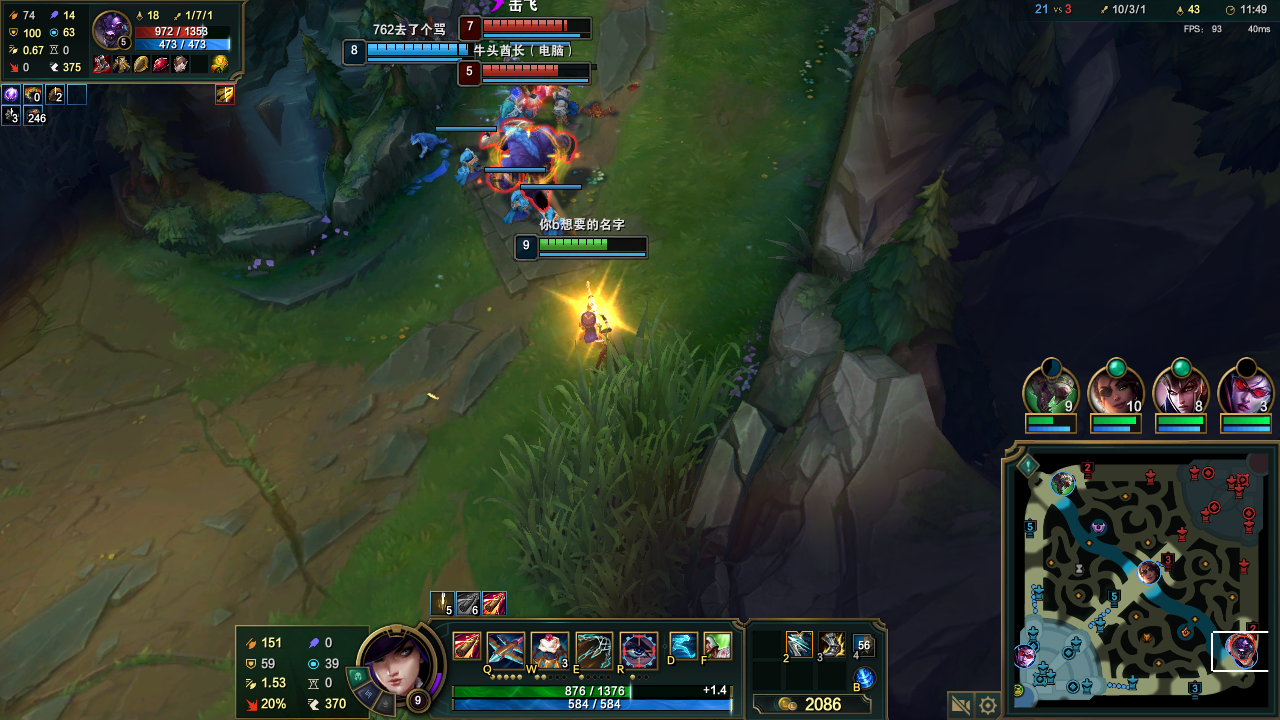DFYX: (479, 20, 589, 36), (483, 66, 584, 78)
KF: (787, 633, 808, 646)
WFXB: (534, 208, 564, 238), (504, 192, 534, 221), (454, 150, 478, 180), (504, 95, 529, 122), (552, 91, 574, 116)
